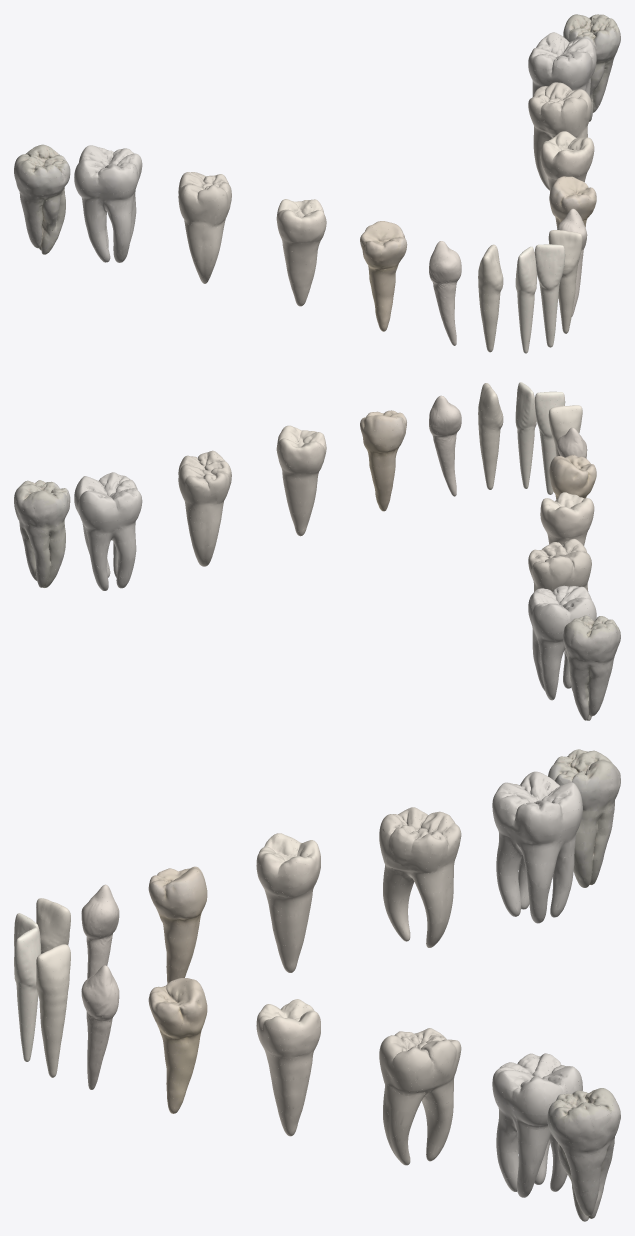
File: inferior_permanente_optimizado.glb
3 views of the same model, one above another, from view 1: azimuth 30°, elevation 25°; view 2: azimuth 150°, elevation 25°; view 3: azimuth 270°, elevation 25° (orthographic). The views are drawn at different scales.
Parts seen in each view (by area): view 1: diente_37, diente_38, diente_36, diente_35, diente_46, diente_47, diente_34, diente_48, diente_45, diente_33, diente_41, diente_32 (+4 smaller); view 2: diente_47, diente_48, diente_37, diente_38, diente_46, diente_45, diente_44, diente_36, diente_35, diente_43, diente_42, diente_34 (+4 smaller); view 3: diente_37, diente_47, diente_36, diente_46, diente_48, diente_35, diente_45, diente_38, diente_44, diente_34, diente_42, diente_43 (+3 smaller).
Boxes of the visible parts, box(x1,y1,x2,y2) form: diente_37: box(74, 145, 142, 262); diente_38: box(14, 144, 70, 254); diente_36: box(178, 172, 231, 283); diente_35: box(276, 199, 326, 306); diente_46: box(528, 82, 591, 190); diente_47: box(528, 32, 596, 96); diente_34: box(360, 221, 407, 331); diente_48: box(563, 14, 620, 121); diente_45: box(540, 131, 594, 192); diente_33: box(429, 241, 461, 345); diente_41: box(534, 244, 565, 347); diente_32: box(478, 244, 503, 352); diente_47: box(74, 472, 142, 590); diente_48: box(14, 480, 70, 587); diente_37: box(528, 585, 596, 700); diente_38: box(563, 615, 620, 720); diente_46: box(178, 450, 231, 566); diente_45: box(276, 425, 326, 536); diente_44: box(360, 410, 406, 511); diente_36: box(528, 539, 591, 592); diente_35: box(540, 492, 594, 545); diente_43: box(429, 395, 461, 496); diente_42: box(478, 383, 503, 489); diente_34: box(549, 455, 596, 499); diente_37: box(492, 771, 582, 923); diente_47: box(492, 1053, 582, 1197); diente_36: box(379, 807, 461, 947); diente_46: box(379, 1028, 461, 1165); diente_48: box(547, 1088, 620, 1221); diente_35: box(256, 833, 320, 972); diente_45: box(256, 999, 320, 1136); diente_38: box(548, 749, 620, 887); diente_44: box(148, 978, 207, 1113); diente_34: box(148, 866, 207, 983); diente_42: box(36, 944, 70, 1077); diente_43: box(81, 965, 119, 1089).
Bounding box in the file's own units: 11.61 × 1.9 × 8.11.
Materials: 8 (8 with a texture image).
